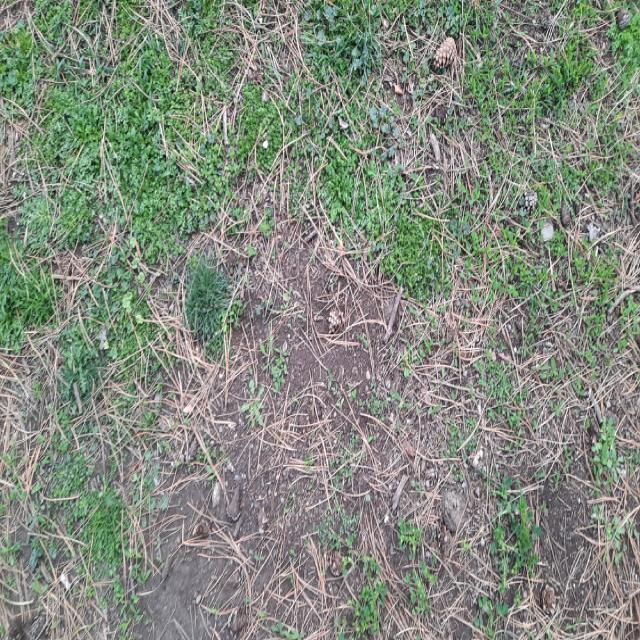white-sand: (135, 268, 639, 637)
